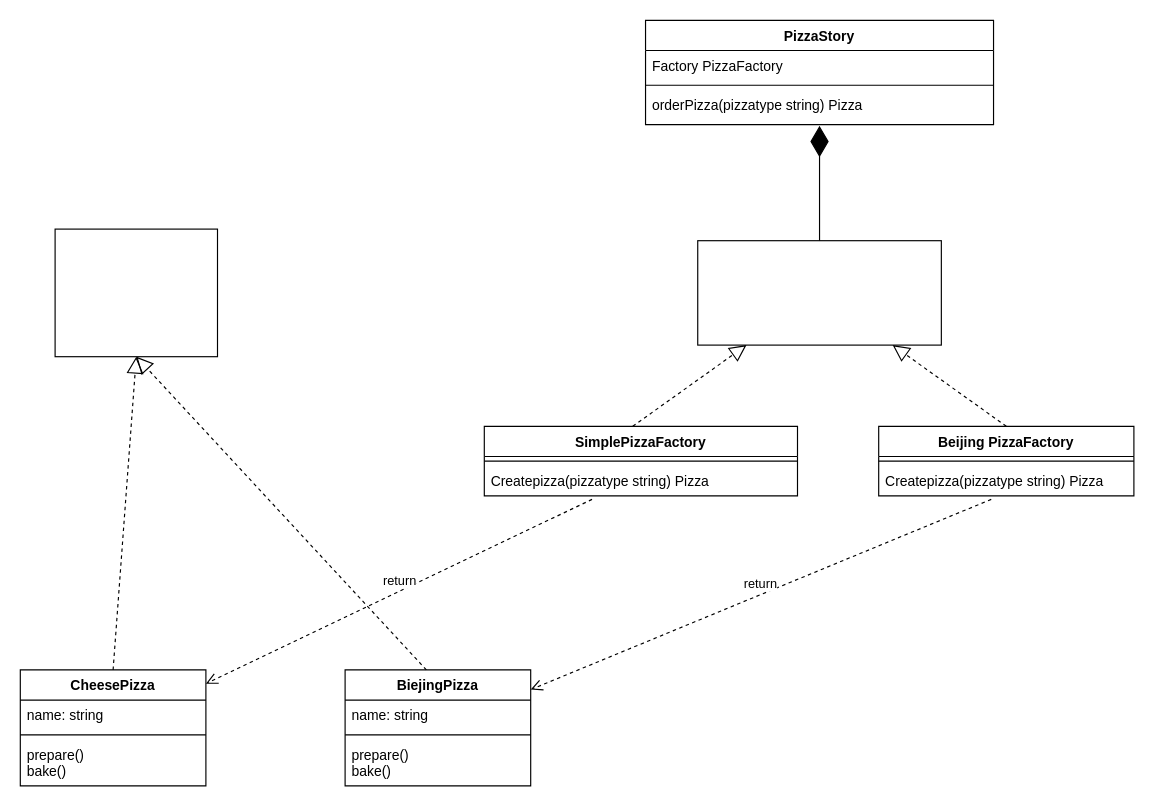
This 1154x810 diagram has some shape labels left out. The shapes that lost their labels are listed below. From the top down, each one's centre as x and y in pixels, then its label:
At pixel 135 292: "Pizza prepare () bake ()".
At pixel 819 292: "« PizzaFactory » Createpizza ( string ) Pizza".
